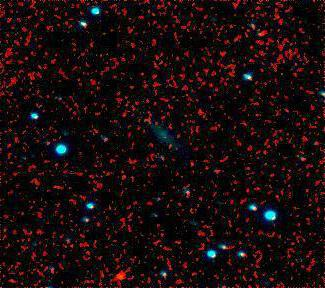star: (106, 263, 136, 288)
